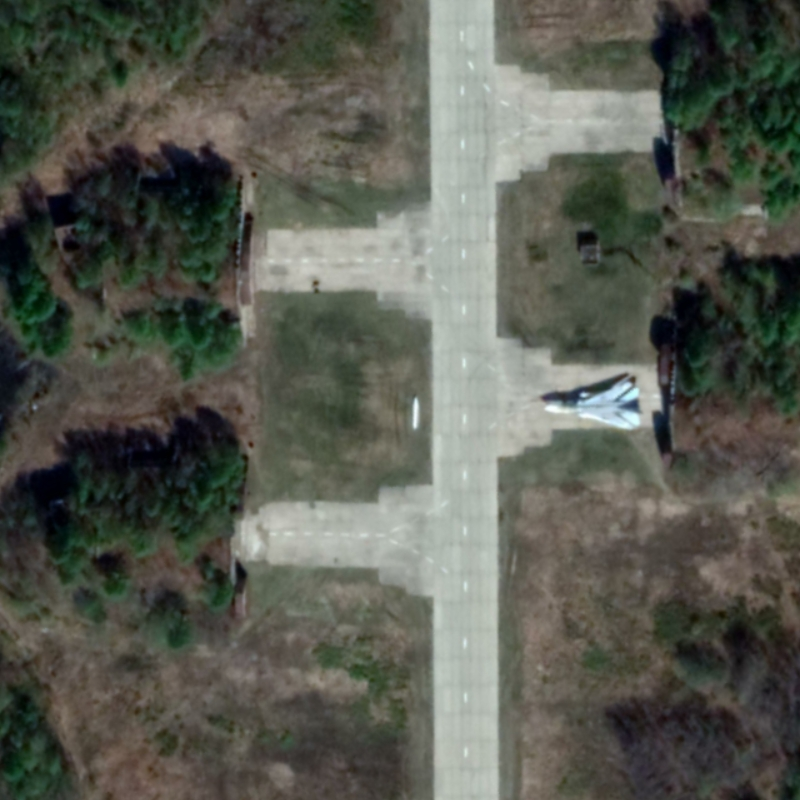A20: (542, 379, 642, 432)
